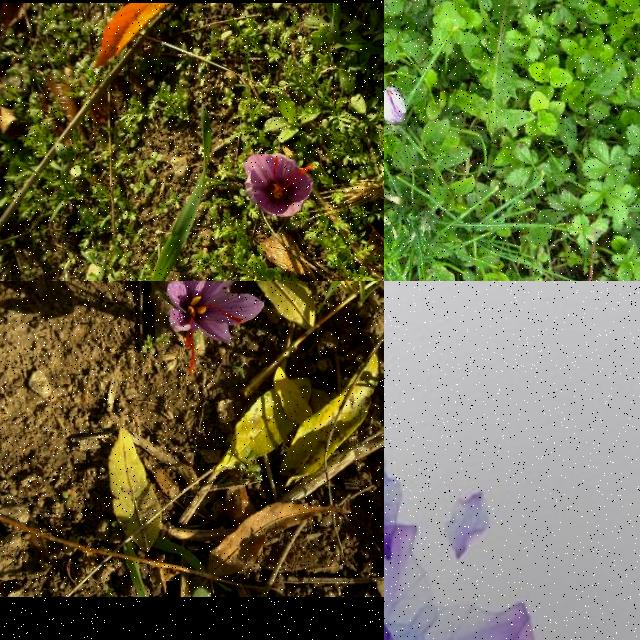flower: (166, 281, 265, 372), (244, 154, 316, 218), (384, 86, 406, 124)
